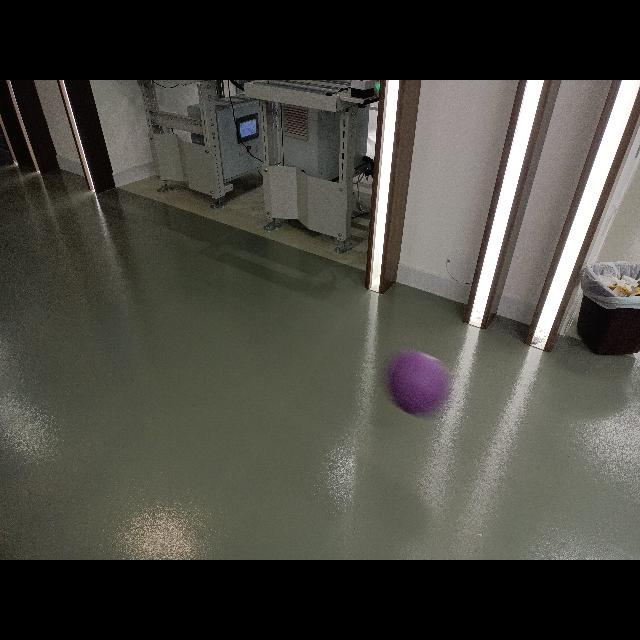P: (380, 350, 454, 418)
